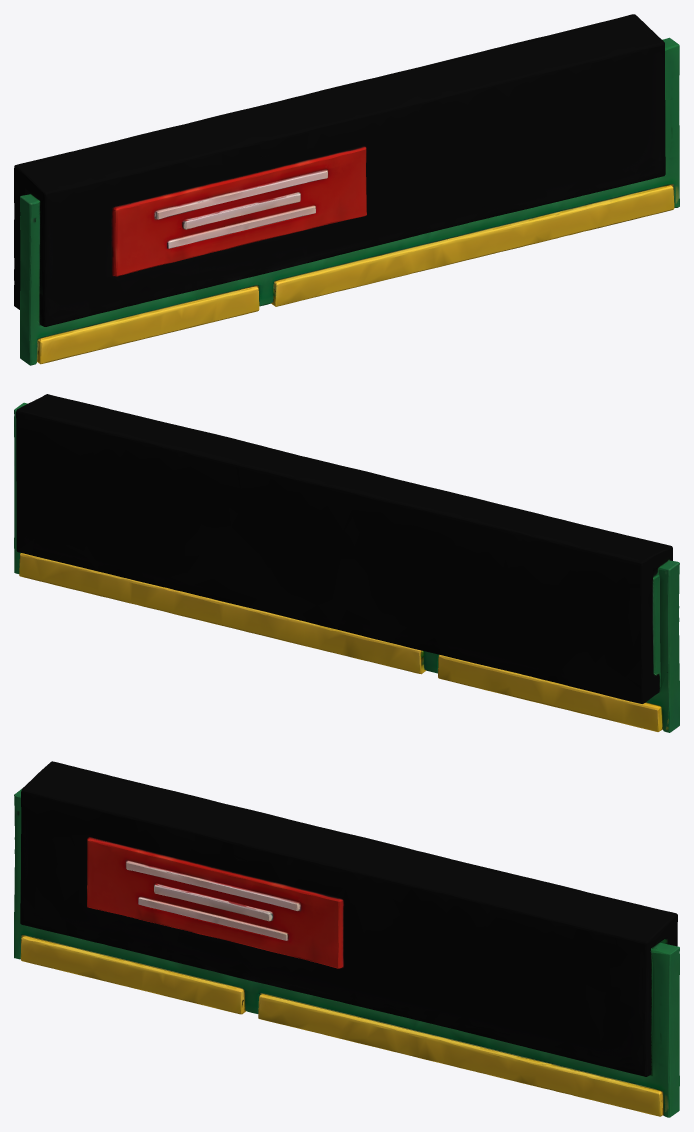
Rendered from ram_ddr4.fbx.
3 renders of one model, top to bottom at view 1: azimuth 30°, elevation 25°; view 2: azimuth 150°, elevation 25°; view 3: azimuth 330°, elevation 25°, orthographic.
Parts seen in each view (by area): view 1: model; view 2: model; view 3: model.
Boxes of the visible parts, <box> form: model: <box>14,14,679,365</box>; model: <box>14,394,679,732</box>; model: <box>14,761,679,1117</box>.
Bounding box in the file's own units: 190 × 49.89 × 18.17.
1 material, 1 textured.
